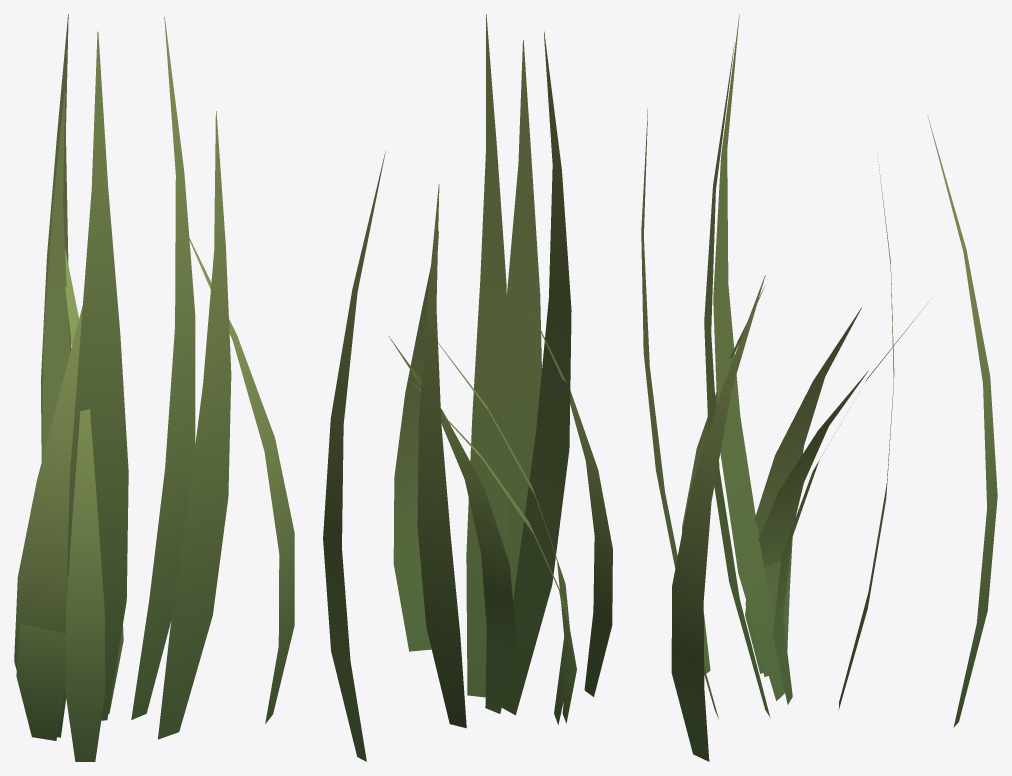
The model's file is Grass_Tuft_02.glb.
3 renders of one model, left to right at view 1: azimuth 30°, elevation 25°; view 2: azimuth 150°, elevation 25°; view 3: azimuth 270°, elevation 25°, orthographic. The views are drawn at different scales.
Visible parts, largest first — view 1: Grass_Tuft_02; view 2: Grass_Tuft_02; view 3: Grass_Tuft_02.
Part boxes in pixels (bbox=[...]): Grass_Tuft_02: bbox=[14, 14, 294, 761]; Grass_Tuft_02: bbox=[323, 14, 612, 761]; Grass_Tuft_02: bbox=[641, 14, 997, 761].
Bounding box in the file's own units: 0.1402 × 0.4025 × 0.1926.
